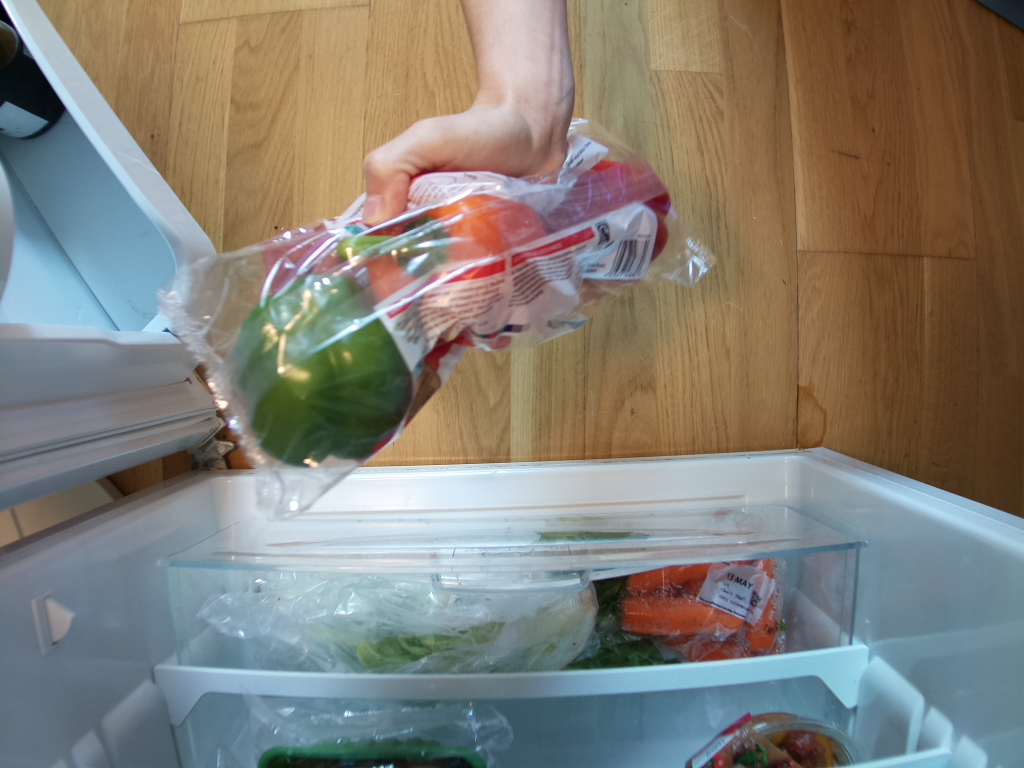pepper: (230, 274, 417, 471), (339, 185, 556, 327), (555, 154, 673, 273)
